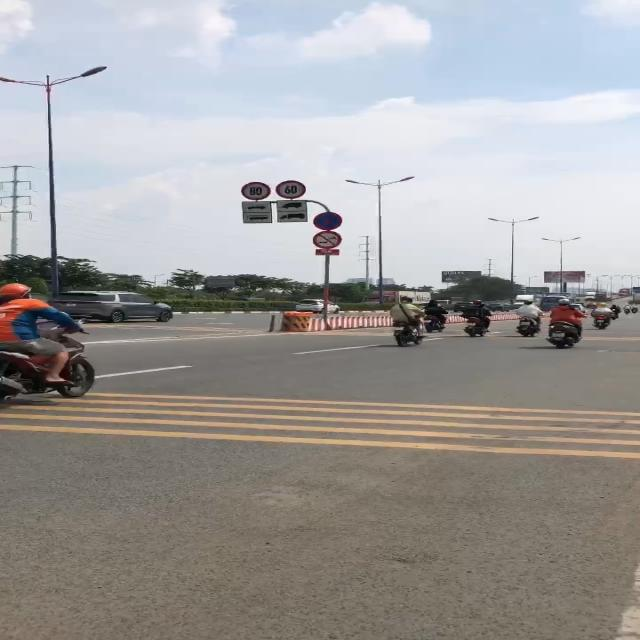Bien bao toc do toi da cho phep: (274, 180, 309, 200), (240, 181, 272, 201)
